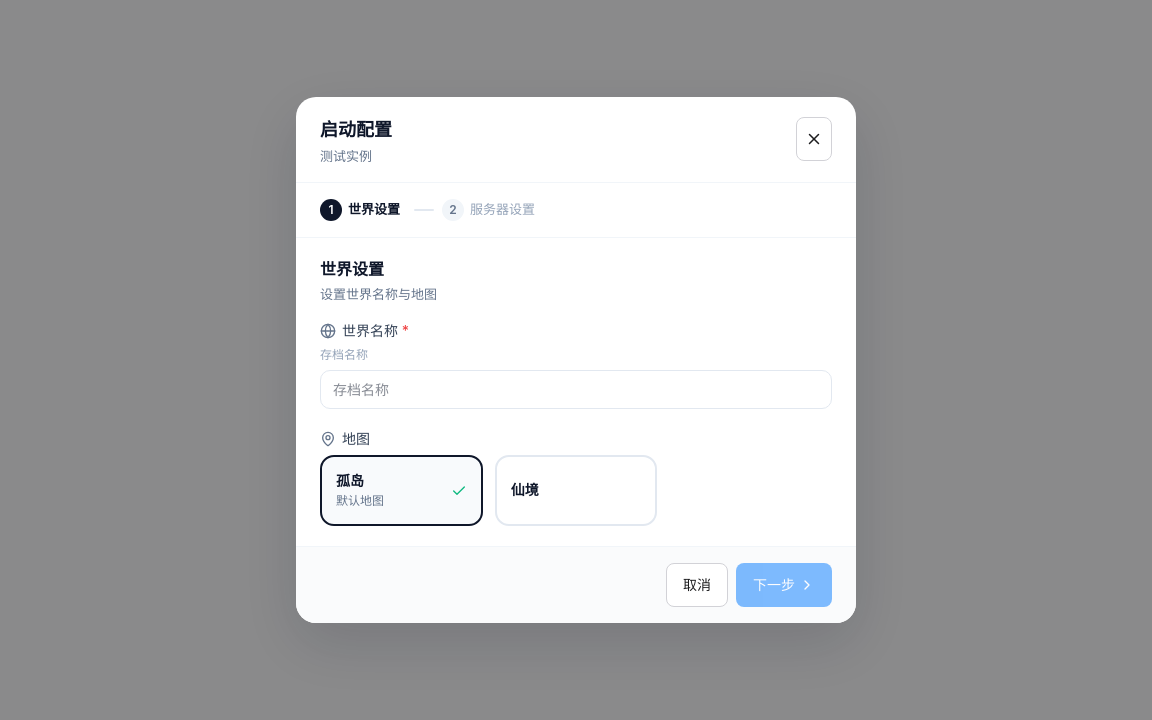
it: StartupGuideWizard — 校验与步骤流转 › 「下一步」推进到第二步，「上一步」回退且保留已填值
In the field labelled "世界名称 *": (576, 389) [320,370,832,409], type "我的世界"
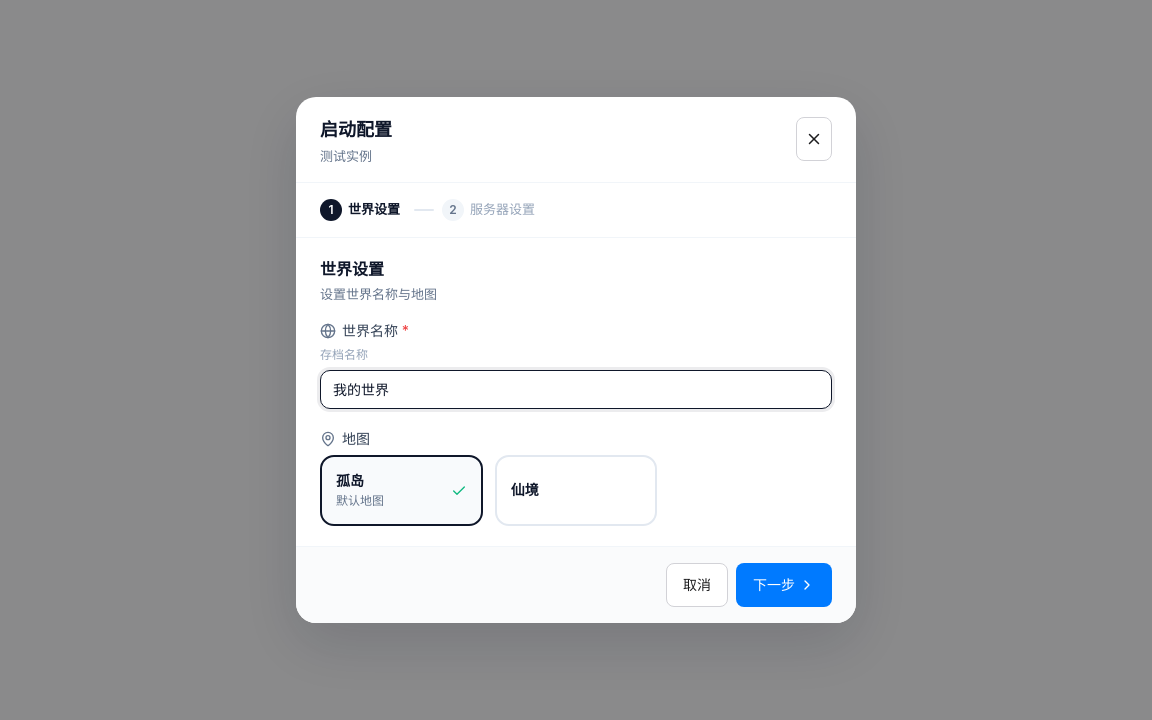
Click the button "下一步": (784, 585) [736,563,832,607]
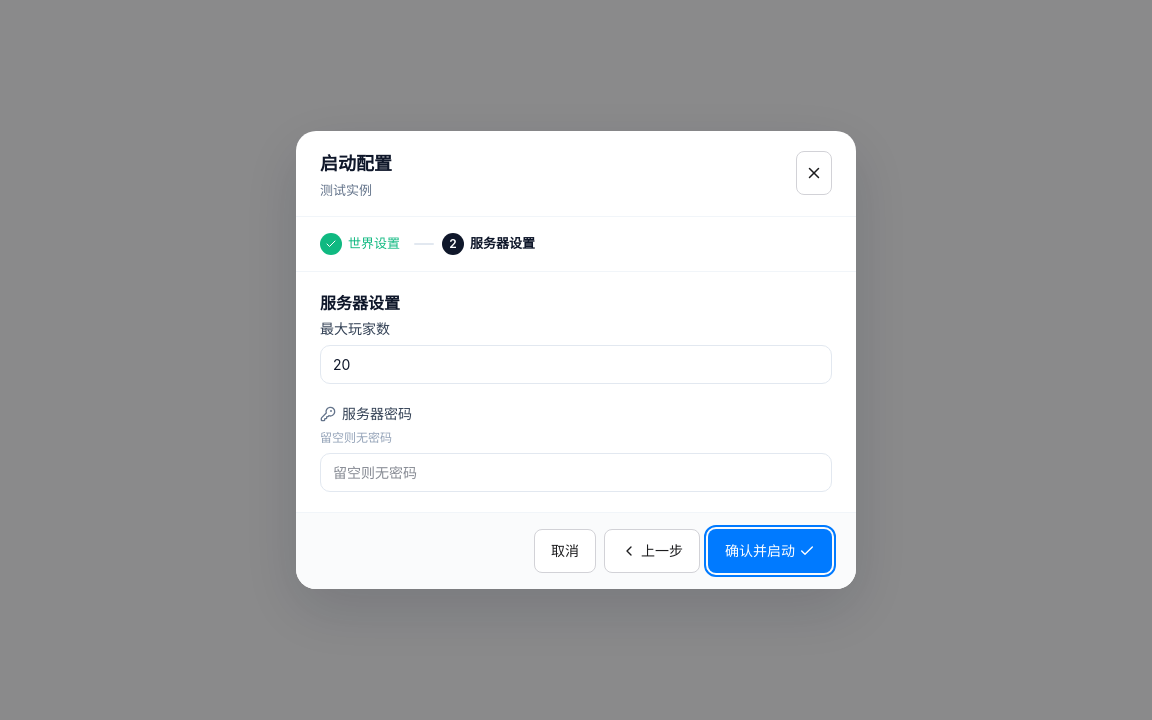
Expected: the number field labelled "最大玩家数" holds "20", [320,345,832,384]
Expected: the button "上一步" is shown
Expected: the button "确认并启动" is shown, [708,529,832,573]
Click the button "上一步": (652, 551) [604,529,700,573]
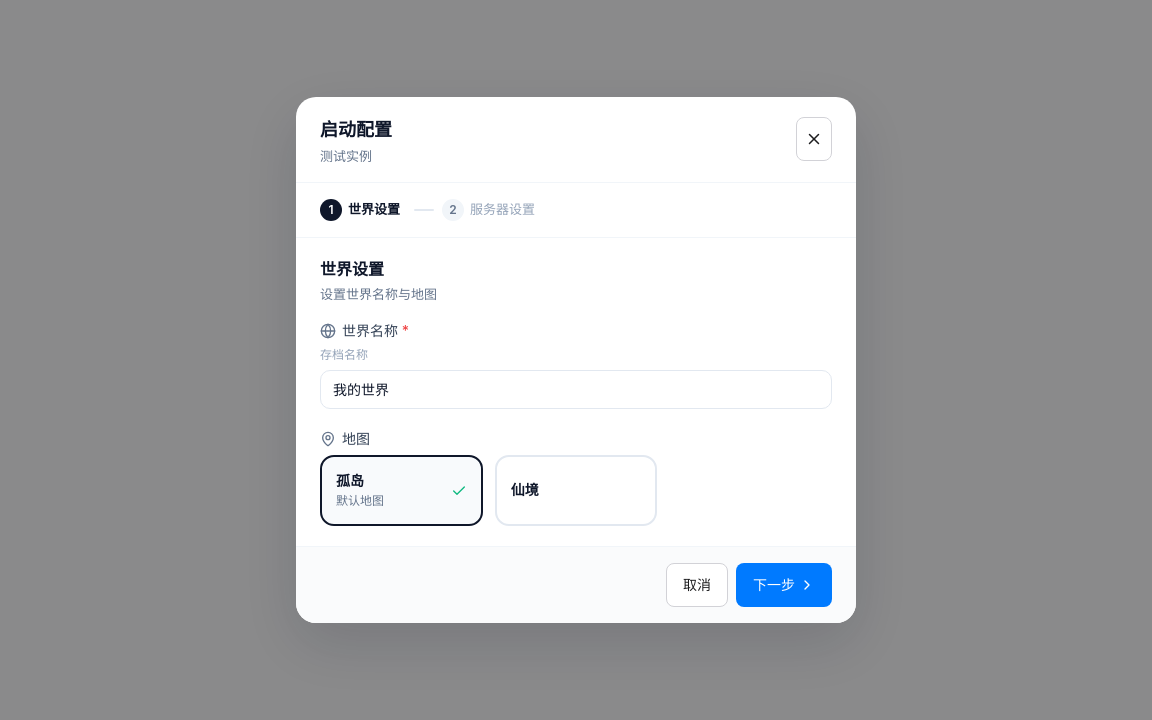
Expected: the field labelled "世界名称 *" holds "我的世界", [320,370,832,409]
Expected: the button "上一步" is gone
